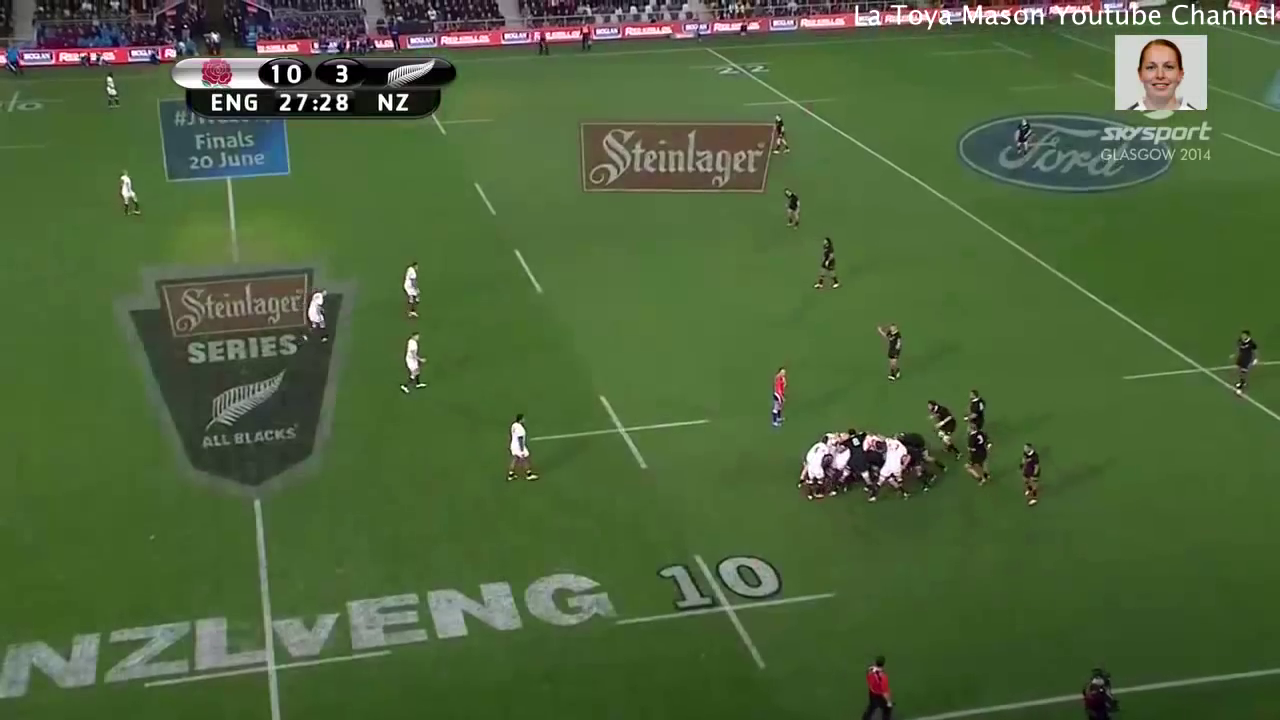10_metre: (610, 549, 839, 674), (525, 395, 718, 472), (412, 109, 497, 137), (1, 90, 65, 120), (1, 135, 52, 165)
player: (501, 410, 543, 487), (836, 424, 877, 499), (1225, 327, 1264, 398), (959, 420, 999, 488), (921, 396, 961, 462), (807, 232, 847, 296), (873, 317, 910, 384), (301, 282, 332, 348), (762, 362, 792, 430), (399, 329, 427, 397), (113, 163, 142, 224), (399, 258, 427, 320), (802, 434, 828, 499), (1016, 439, 1040, 507), (764, 107, 794, 158), (779, 183, 807, 232), (961, 386, 989, 424), (100, 72, 124, 108), (1012, 117, 1032, 158)
scrum: (792, 422, 951, 496)
